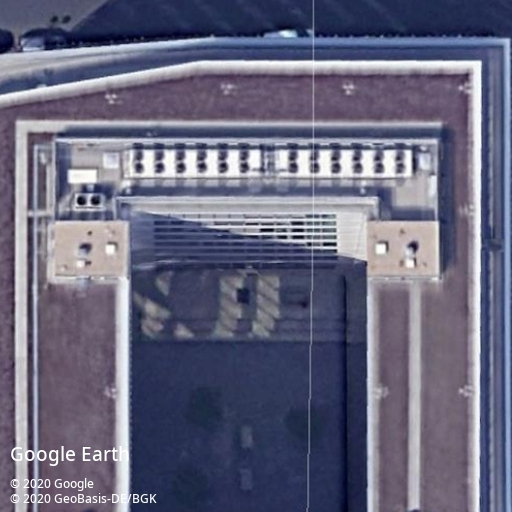Chiller: (275, 147, 413, 178), (127, 148, 263, 179), (74, 193, 104, 209)
